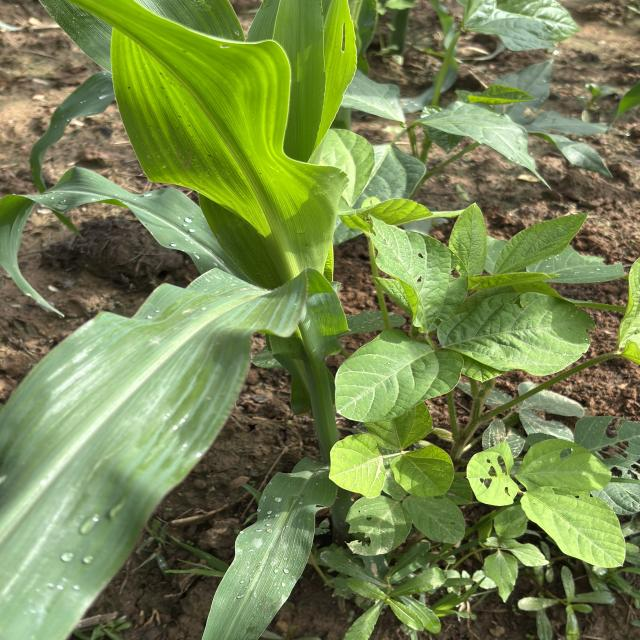maize: (0, 0, 337, 585)
weed: (390, 245, 602, 576), (392, 12, 640, 198)
